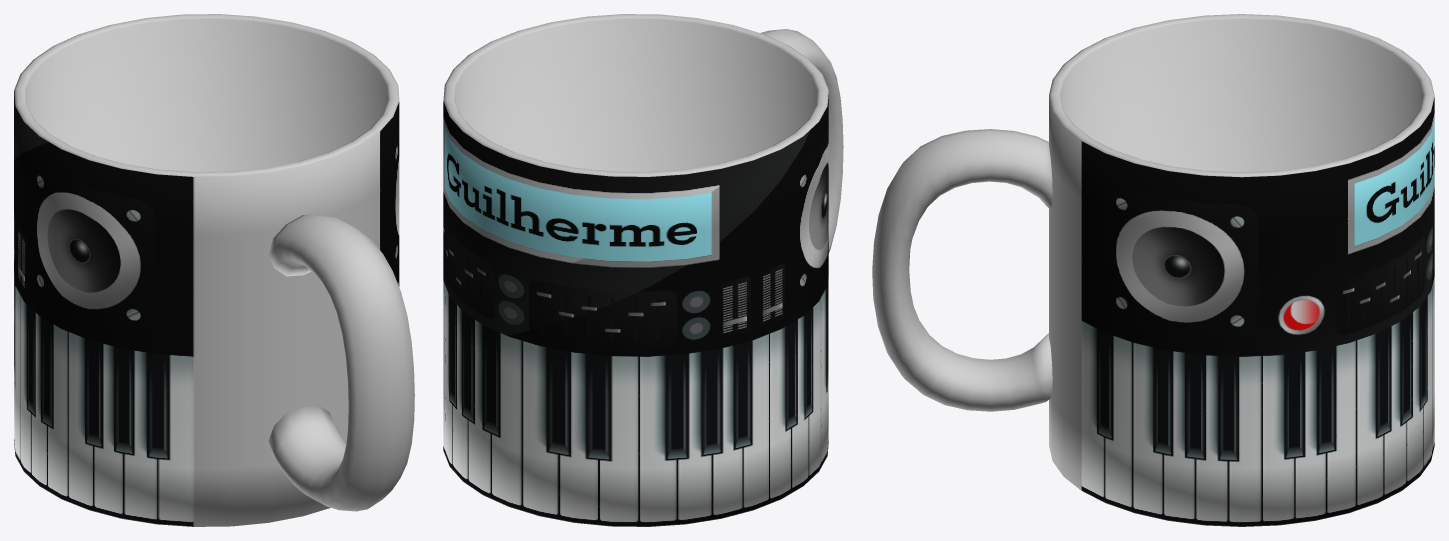
Rendered from CANECA.obj.
3 views of the same model, side by side, from view 1: azimuth 30°, elevation 25°; view 2: azimuth 150°, elevation 25°; view 3: azimuth 270°, elevation 25° (orthographic).
Visible parts, largest first — view 1: Caneca; view 2: Caneca; view 3: Caneca.
Boxes of the visible parts, x1,y1,x2,y2 form: Caneca: (14, 14, 414, 526); Caneca: (443, 14, 843, 526); Caneca: (872, 14, 1434, 526).
Size of the model in its own units: 2 by 2.01 by 2.92.
